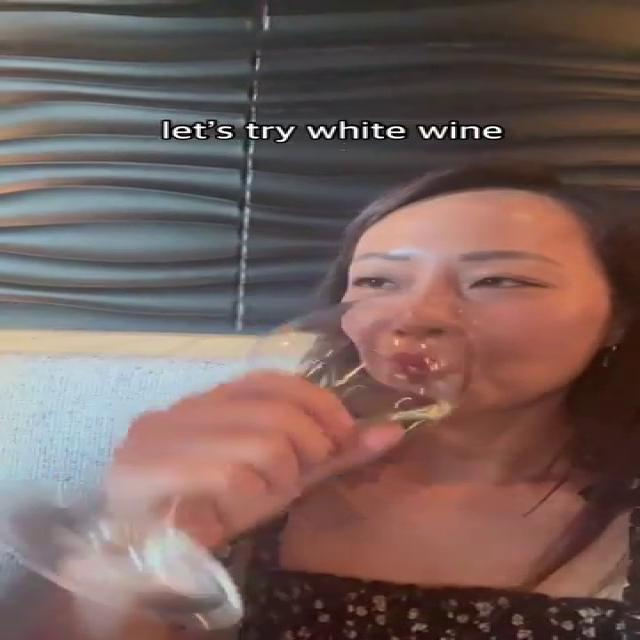Cup: (0, 295, 476, 628)
Hand: (110, 367, 420, 566)
Mouth: (366, 346, 478, 378)
